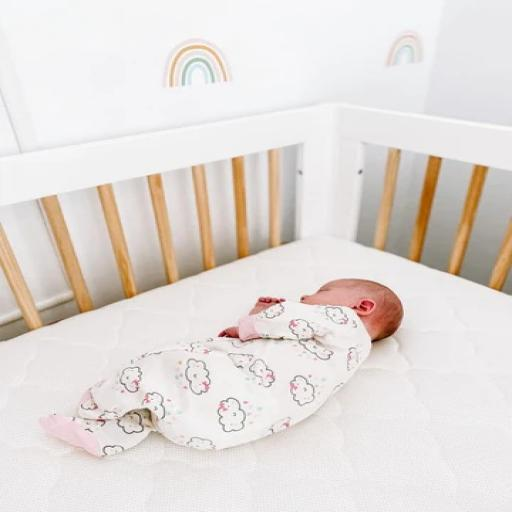baby: (42, 280, 402, 456)
crib: (0, 104, 511, 510)
